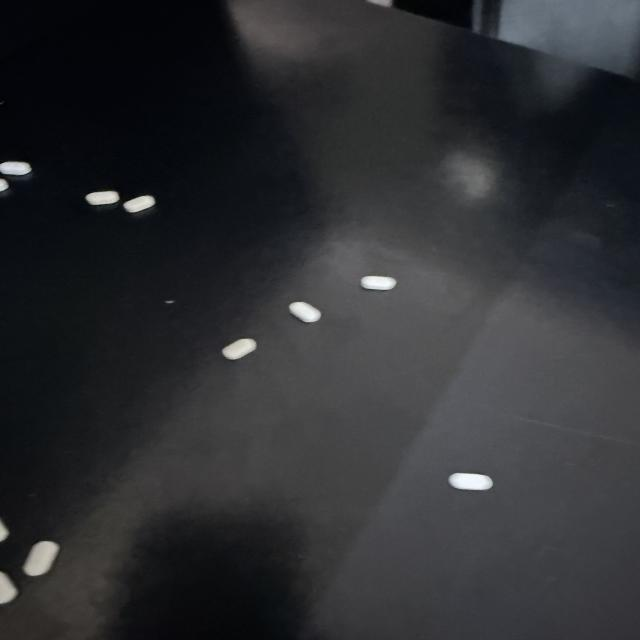pill: (23, 541, 59, 576), (449, 473, 492, 490), (222, 339, 256, 359), (289, 302, 321, 322), (0, 572, 18, 604), (123, 196, 155, 213), (361, 276, 396, 290), (86, 191, 119, 205), (0, 161, 31, 175), (0, 519, 9, 542), (0, 179, 9, 191)
